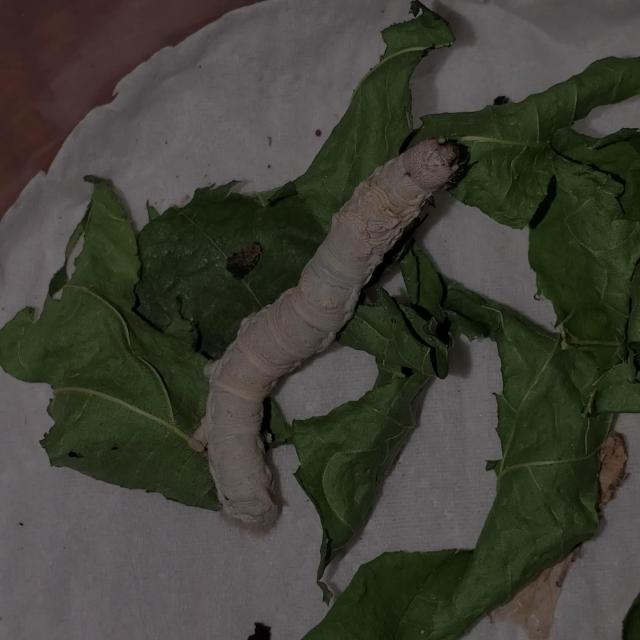Healthy: (183, 126, 468, 534)
